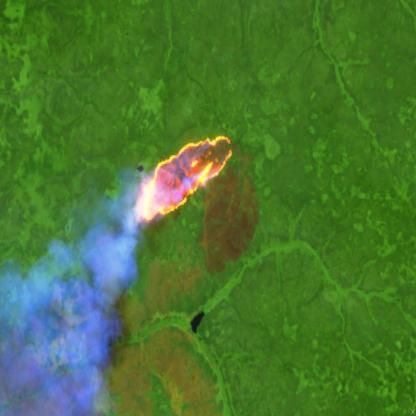fire: (132, 131, 234, 226)
